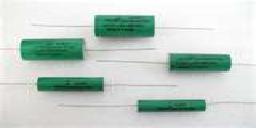Electrolytic Capacitor: (29, 13, 223, 39), (52, 94, 256, 112), (4, 34, 162, 55), (94, 50, 256, 70), (1, 74, 190, 91)
